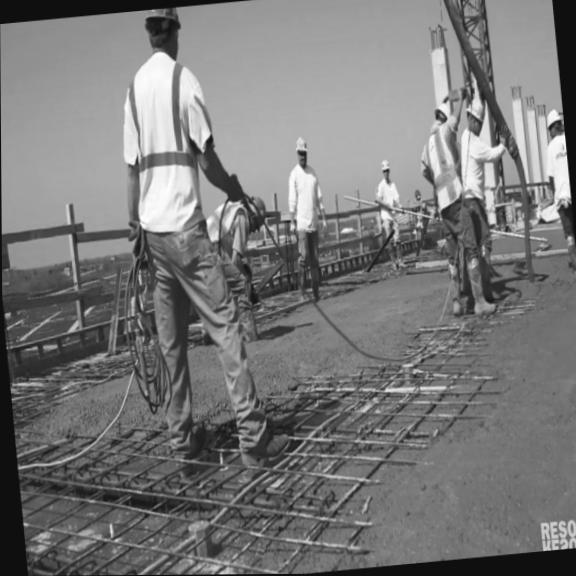safety_vest: (115, 46, 223, 238), (422, 128, 467, 210), (204, 198, 251, 246)
